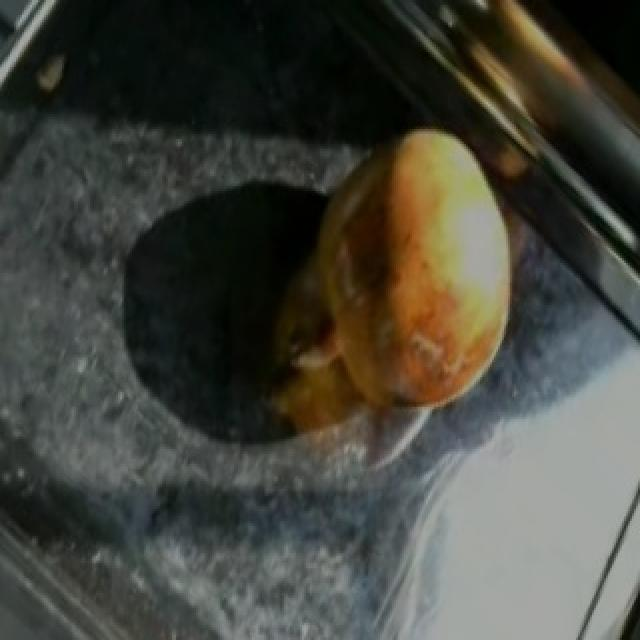fruit: (290, 119, 558, 447)
